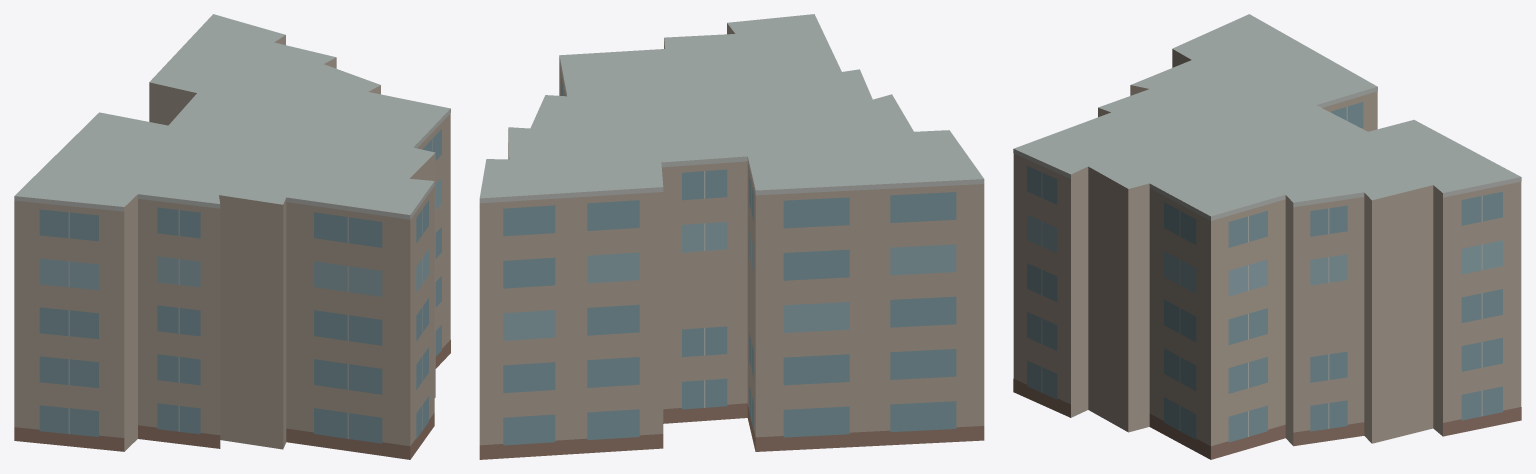
Rendered from survey-upis-32630293.glb.
3 views of the same model, side by side, from view 1: azimuth 30°, elevation 25°; view 2: azimuth 150°, elevation 25°; view 3: azimuth 270°, elevation 25° (orthographic). The views are drawn at different scales.
Visible parts, largest first — view 1: survey-upis-32630293.tmp; view 2: survey-upis-32630293.tmp; view 3: survey-upis-32630293.tmp.
Boxes of the visible parts, x1=… form: survey-upis-32630293.tmp: x1=14, y1=14, x2=450, y2=459; survey-upis-32630293.tmp: x1=479, y1=14, x2=984, y2=459; survey-upis-32630293.tmp: x1=1013, y1=14, x2=1521, y2=459.
Size of the model in its own units: 23.2 by 13 by 24.59.
